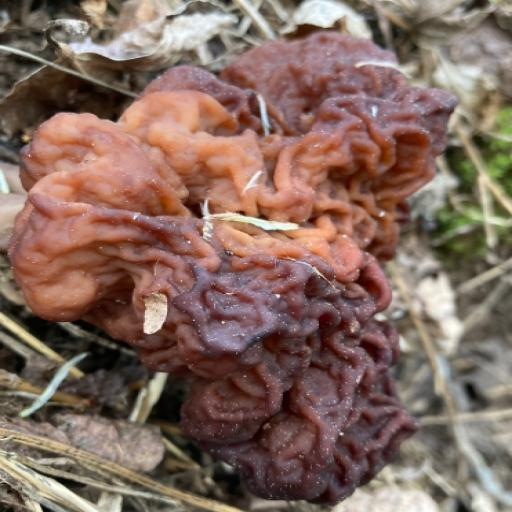mushroom: (0, 0, 461, 512)
